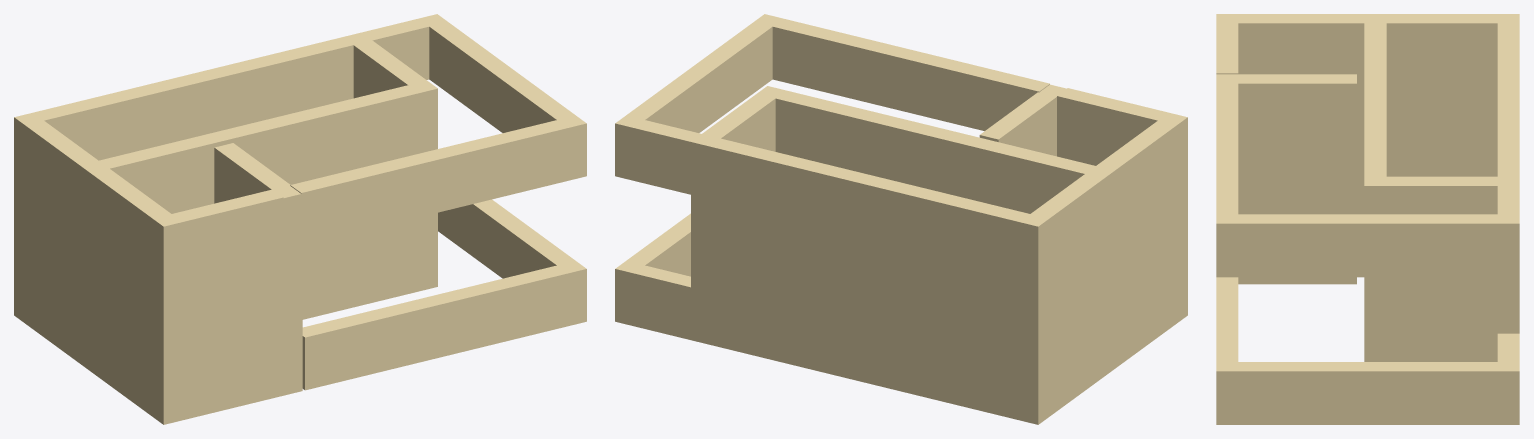
File: tinker.obj
The picture shows the model from 3 angles, left to right: view 1: azimuth 30°, elevation 25°; view 2: azimuth 150°, elevation 25°; view 3: azimuth 270°, elevation 25°; orthographic projection.
Parts seen in each view (by area): view 1: obj_0; view 2: obj_0; view 3: obj_0.
Boxes of the visible parts, <box> form: obj_0: <box>14,14,586,424</box>; obj_0: <box>615,14,1187,424</box>; obj_0: <box>1216,14,1519,424</box>.
Bounding box in the file's own units: 33.5 × 15 × 20.5.
